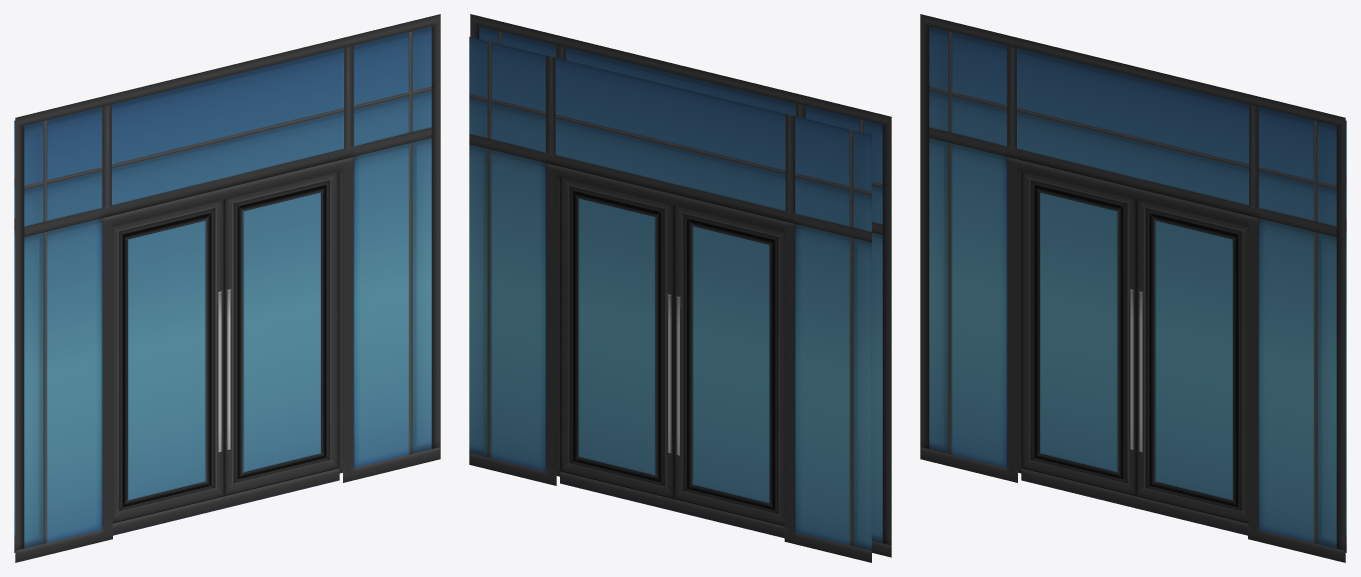
The model's file is Porch_Door_10_Glass.fbx.
3 views of the same model, side by side, from view 1: azimuth 30°, elevation 25°; view 2: azimuth 150°, elevation 25°; view 3: azimuth 330°, elevation 25° (orthographic).
Parts seen in each view (by area): view 1: Porch_Door_010, Porch_Door_010_Flap_Right, Porch_Door_010_Flap_Left; view 2: Porch_Door_010, Porch_Door_010_Flap_Right, Porch_Door_010_Flap_Left; view 3: Porch_Door_010, Porch_Door_010_Flap_Left, Porch_Door_010_Flap_Right.
Part boxes in pixels (bbox=[...]): Porch_Door_010: bbox=[14, 14, 440, 562]; Porch_Door_010_Flap_Right: bbox=[225, 172, 339, 508]; Porch_Door_010_Flap_Left: bbox=[113, 199, 224, 535]; Porch_Door_010: bbox=[469, 14, 891, 562]; Porch_Door_010_Flap_Right: bbox=[560, 178, 673, 510]; Porch_Door_010_Flap_Left: bbox=[673, 205, 784, 538]; Porch_Door_010: bbox=[920, 14, 1346, 562]; Porch_Door_010_Flap_Left: bbox=[1021, 172, 1136, 508]; Porch_Door_010_Flap_Right: bbox=[1137, 200, 1247, 535].
Bounding box in the file's own units: 700 × 700 × 30.
